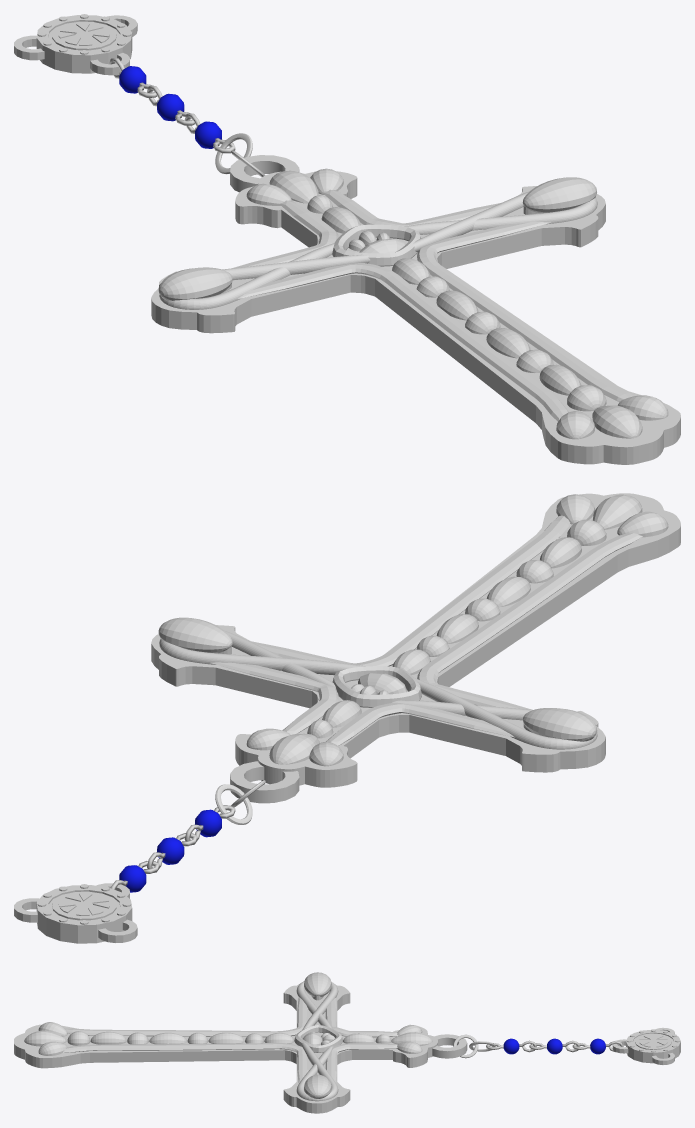
Rendered from juliet_rosary.glb.
The picture shows the model from 3 angles, top to bottom: view 1: azimuth 30°, elevation 25°; view 2: azimuth 150°, elevation 25°; view 3: azimuth 270°, elevation 25°; orthographic projection. The views are drawn at different scales.
Parts seen in each view (by area): view 1: Object_8, Object_6, Object_5, Object_7, Object_4, Object_2; view 2: Object_8, Object_6, Object_5, Object_7, Object_4, Object_2; view 3: Object_8, Object_6, Object_5, Object_4, Object_7, Object_2.
Boxes of the visible parts, left/top/right/bottom form: Object_8: left=14, top=14, right=680, bottom=464; Object_6: left=158, top=133, right=633, bottom=421; Object_5: left=246, top=168, right=668, bottom=439; Object_7: left=159, top=191, right=597, bottom=309; Object_4: left=348, top=231, right=553, bottom=372; Object_2: left=119, top=66, right=221, bottom=148; Object_8: left=14, top=493, right=680, bottom=943; Object_6: left=158, top=515, right=642, bottom=824; Object_5: left=246, top=494, right=668, bottom=766; Object_7: left=159, top=631, right=597, bottom=749; Object_4: left=351, top=560, right=553, bottom=694; Object_2: left=119, top=809, right=221, bottom=892; Object_8: left=14, top=983, right=680, bottom=1113; Object_6: left=63, top=972, right=495, bottom=1098; Object_5: left=24, top=1022, right=432, bottom=1055; Object_4: left=127, top=1031, right=335, bottom=1045; Object_7: left=296, top=981, right=338, bottom=1101; Object_2: left=503, top=1038, right=605, bottom=1054.
Bounding box in the file's own units: 7.13 × 0.7311 × 16.17.
